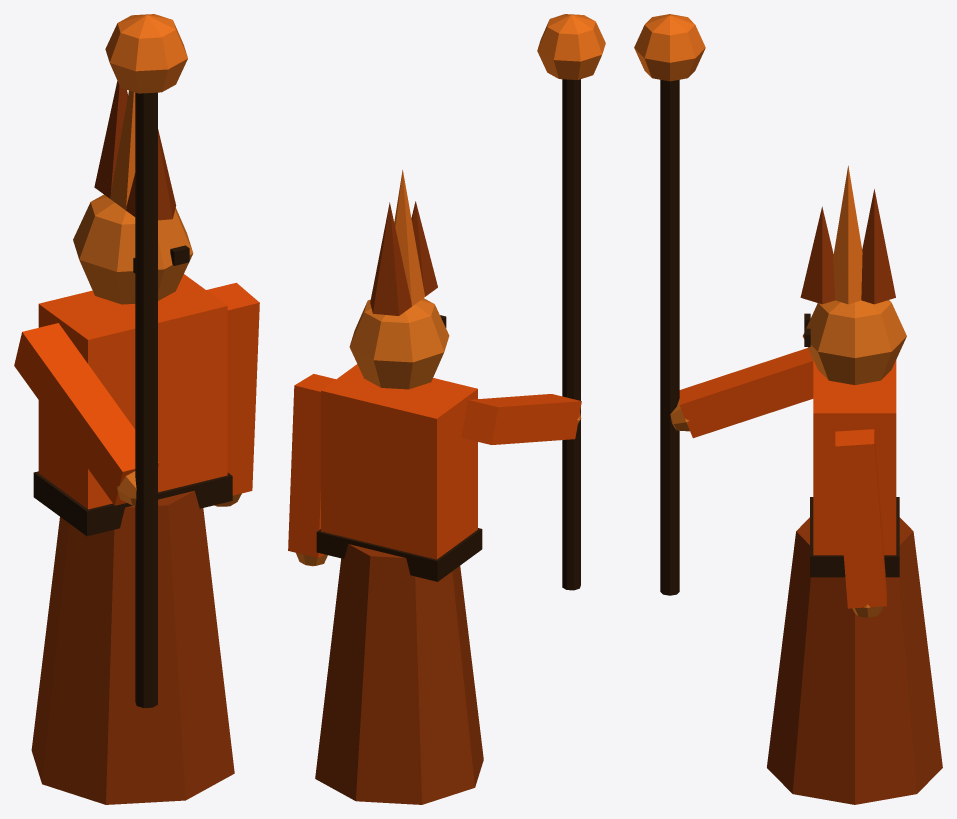
File: SM_Champion_9026_Flare.glb
The picture shows the model from 3 angles, left to right: view 1: azimuth 30°, elevation 25°; view 2: azimuth 150°, elevation 25°; view 3: azimuth 270°, elevation 25°; orthographic projection. The views are drawn at different scales.
Visible parts, largest first — view 1: SM_Champion_9026_Flare; view 2: SM_Champion_9026_Flare; view 3: SM_Champion_9026_Flare.
Part boxes in pixels (x1=…): SM_Champion_9026_Flare: x1=14, y1=14, x2=259, y2=804; SM_Champion_9026_Flare: x1=288, y1=14, x2=605, y2=804; SM_Champion_9026_Flare: x1=634, y1=14, x2=942, y2=804.
Size of the model in its own units: 0.7945 by 2.58 by 1.01.
